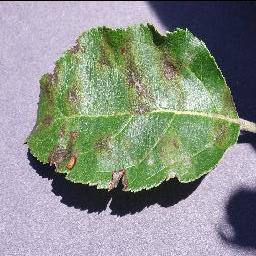apple healthy: (24, 21, 242, 193)
